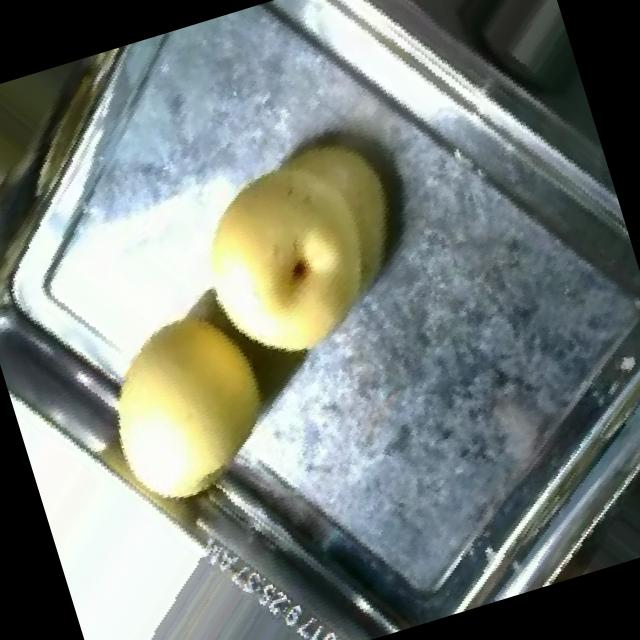Fruit: (147, 89, 456, 397), (54, 274, 314, 544)
